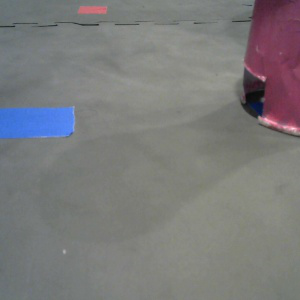Right: (242, 1, 300, 137)
